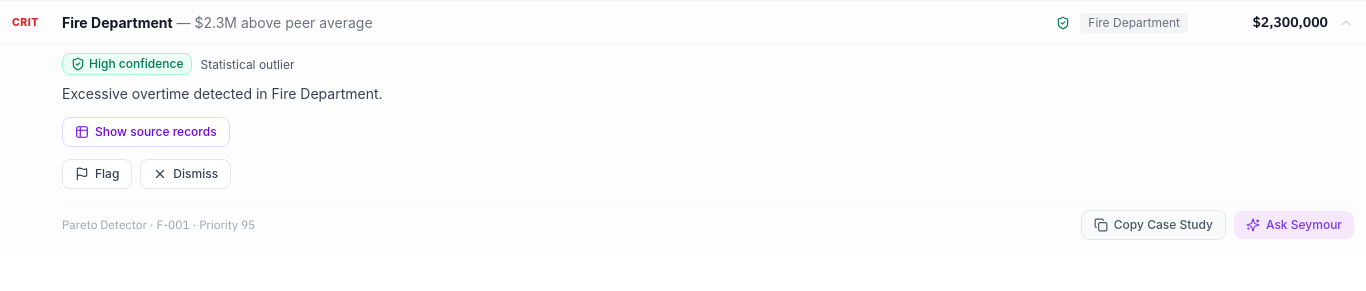
Test: WasteFindingCard triage and precision › dismissing via a reason shows the dismissed confirmation
The image size is (1366, 291).
Click the button "Dismiss": (186, 174) [140,159,231,189]
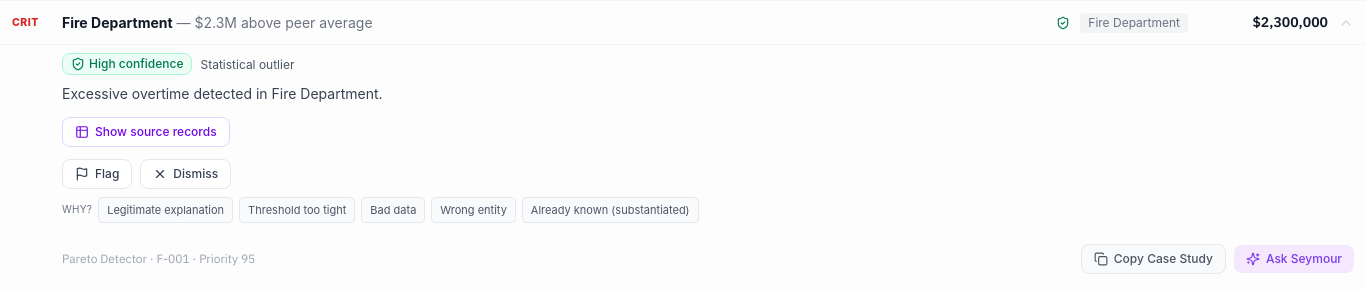
Click the button "Legitimate explanation": (166, 210) [98,197,233,223]
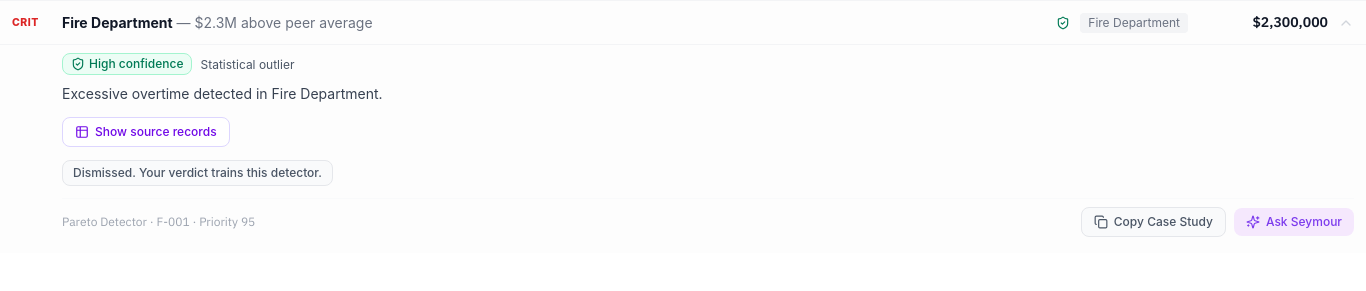
expect the text with test id "triage-confirmation" shows "Dismissed": met, box [73,165,322,180]
